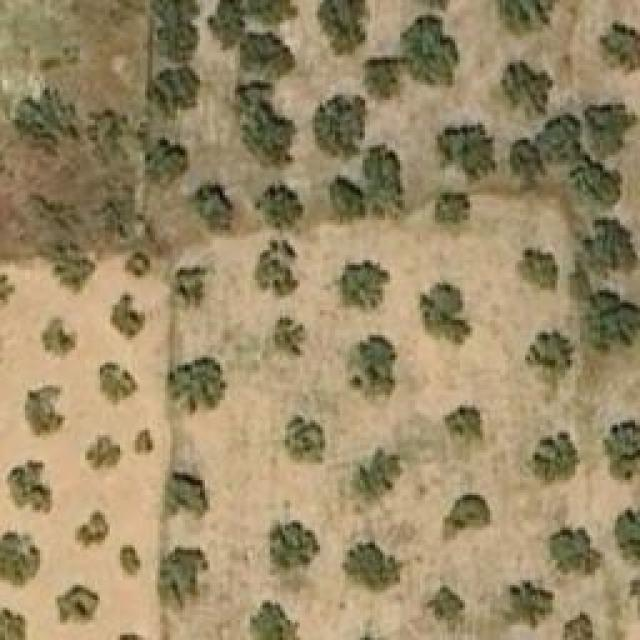Tree: (235, 80, 298, 165), (13, 90, 79, 157), (312, 93, 370, 166), (577, 290, 640, 355), (418, 273, 471, 346), (438, 123, 498, 186), (402, 18, 460, 83), (575, 220, 638, 278), (158, 545, 208, 613), (168, 358, 228, 413), (525, 430, 580, 488), (345, 542, 410, 590), (585, 105, 638, 158), (353, 450, 403, 505), (360, 143, 405, 203), (317, 0, 365, 55), (255, 240, 298, 300), (503, 64, 553, 115), (550, 527, 603, 575), (270, 520, 320, 570), (237, 33, 295, 76), (353, 335, 396, 393), (185, 185, 240, 230), (8, 460, 53, 515), (565, 160, 620, 205), (495, 0, 560, 38), (0, 530, 40, 590), (152, 65, 200, 115), (602, 423, 640, 486), (442, 495, 490, 543), (597, 19, 640, 72), (505, 583, 553, 628), (538, 110, 583, 158), (250, 600, 303, 640), (340, 258, 380, 311), (255, 185, 303, 228), (323, 175, 366, 223), (150, 138, 188, 191), (145, 0, 215, 28), (165, 473, 208, 518), (363, 55, 406, 100), (285, 415, 325, 463), (25, 385, 63, 435), (40, 312, 78, 360), (98, 363, 138, 408), (55, 585, 100, 625), (510, 140, 545, 190), (530, 333, 573, 373), (160, 23, 200, 66), (55, 245, 95, 288), (110, 290, 145, 338), (85, 433, 120, 478), (523, 248, 558, 291), (615, 510, 640, 565), (448, 407, 483, 445), (427, 588, 465, 623), (75, 508, 108, 548), (175, 268, 205, 311), (435, 190, 470, 223), (275, 317, 303, 355), (563, 612, 593, 640), (120, 543, 143, 578), (0, 610, 25, 640), (133, 427, 156, 455), (125, 253, 148, 276)
